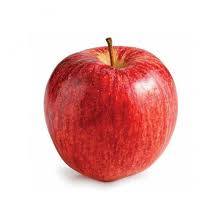apple: (32, 28, 187, 189)
